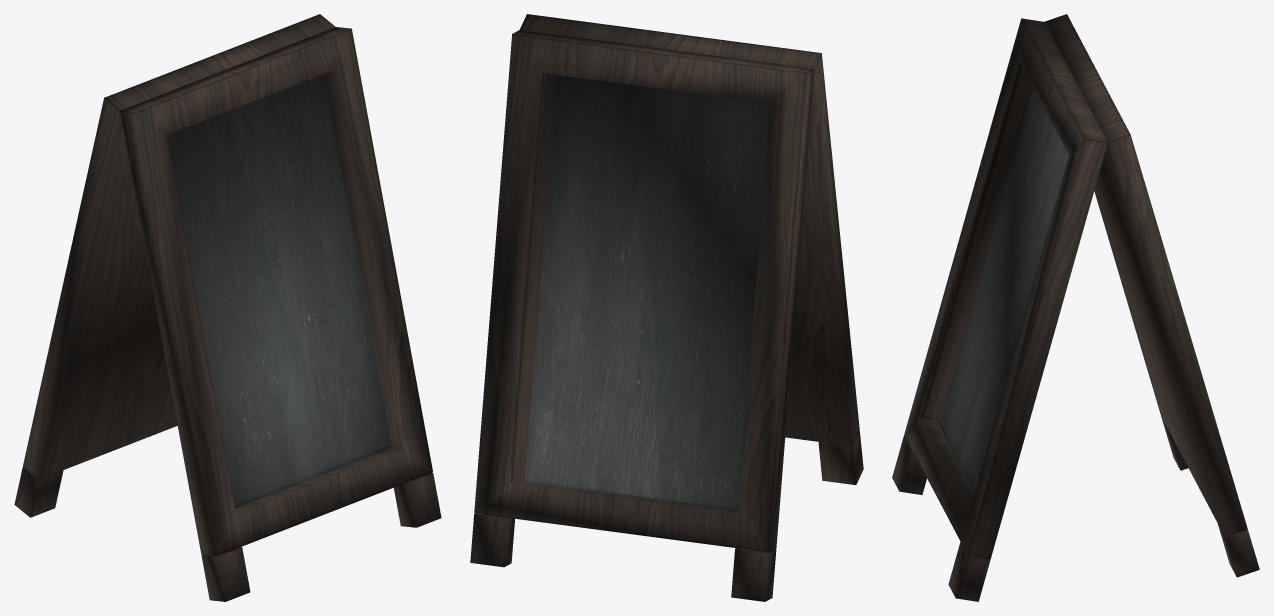
File: CartBoard.fbx
The picture shows the model from 3 angles, left to right: view 1: azimuth 30°, elevation 25°; view 2: azimuth 150°, elevation 25°; view 3: azimuth 270°, elevation 25°; orthographic projection. The views are drawn at different scales.
Visible parts, largest first — view 1: Chalkboard; view 2: Chalkboard; view 3: Chalkboard.
Boxes of the visible parts, left/top/right/bottom form: Chalkboard: left=14, top=14, right=441, bottom=601; Chalkboard: left=470, top=14, right=863, bottom=601; Chalkboard: left=892, top=14, right=1259, bottom=601.
Bounding box in the file's own units: 74.63 × 106 × 77.7.
1 material, 1 textured.
